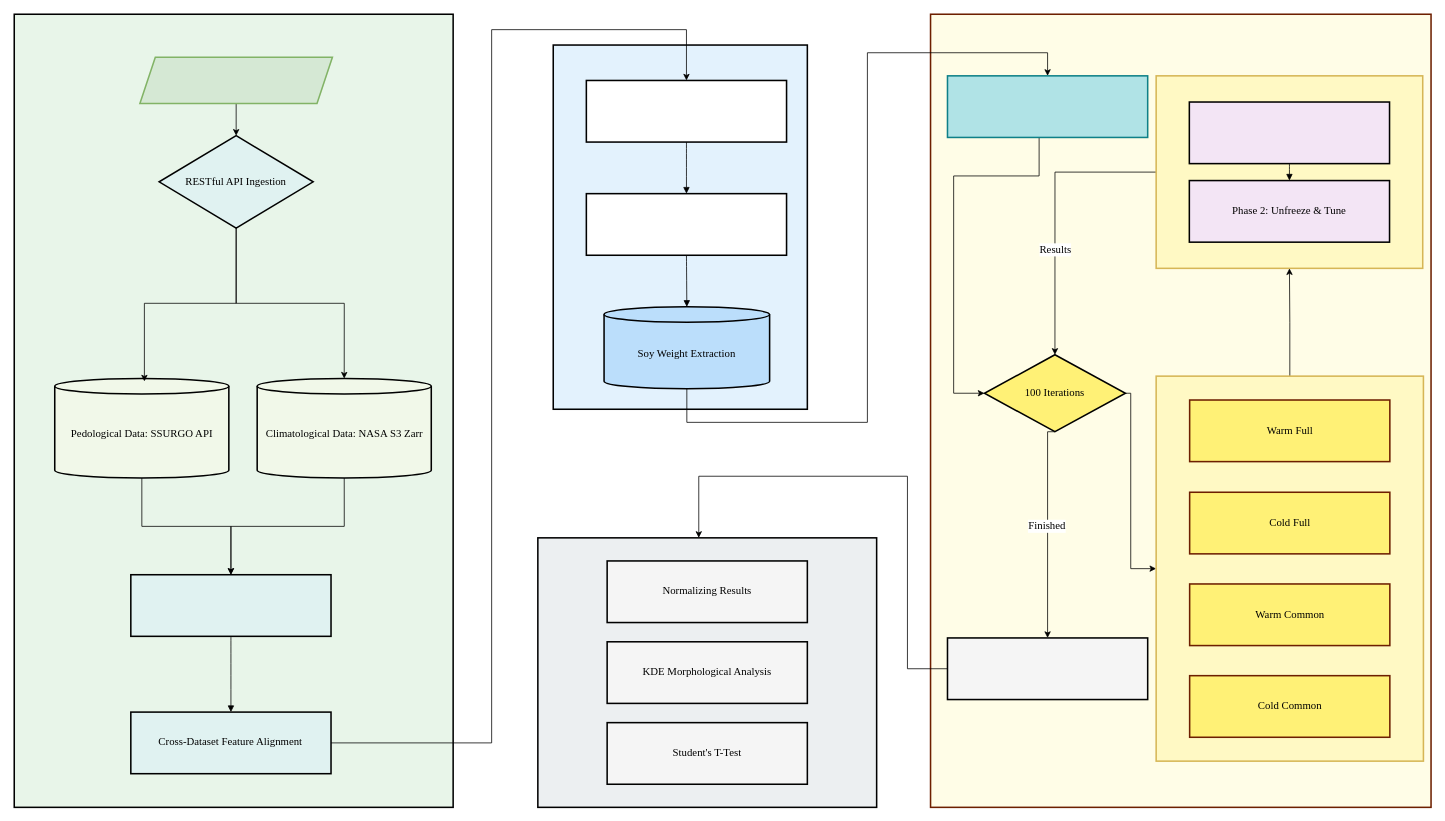
The diagram is 1445 pixels wide and 821 high, and some of its shapes have lost their labels. Each missing label, with the centre of its shape:
"Field-Level Metadata" belongs at point (236, 80).
"Heuristic-driven Base Model Training" belongs at point (686, 224).
"Metric Aggregation" belongs at point (1047, 668).
"Optuna Bayesian Hyperparameter Search" belongs at point (686, 110).
"Phase 1: Freeze Layers" belongs at point (1289, 132).
"Stochastic Imputation & Categorical Encoding" belongs at point (230, 605).
"Weight Alignment" belongs at point (1047, 106).
